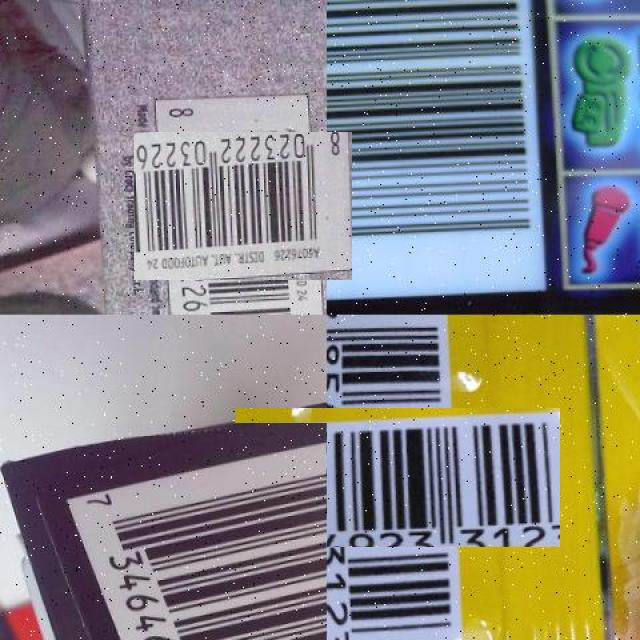Barcode: (327, 0, 548, 303), (69, 423, 327, 640), (281, 361, 513, 594), (152, 114, 335, 297)
